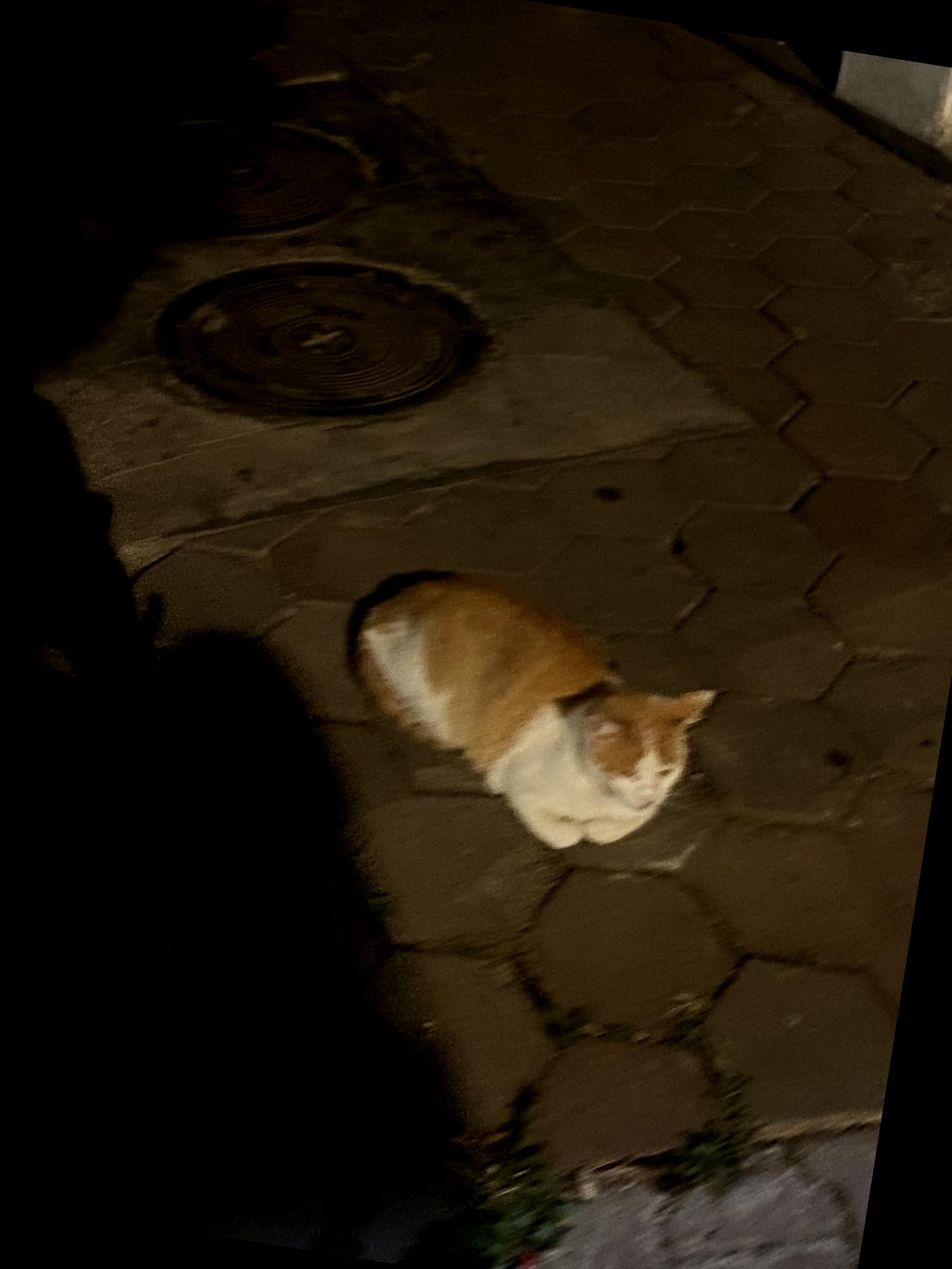macka: (329, 560, 731, 869)
